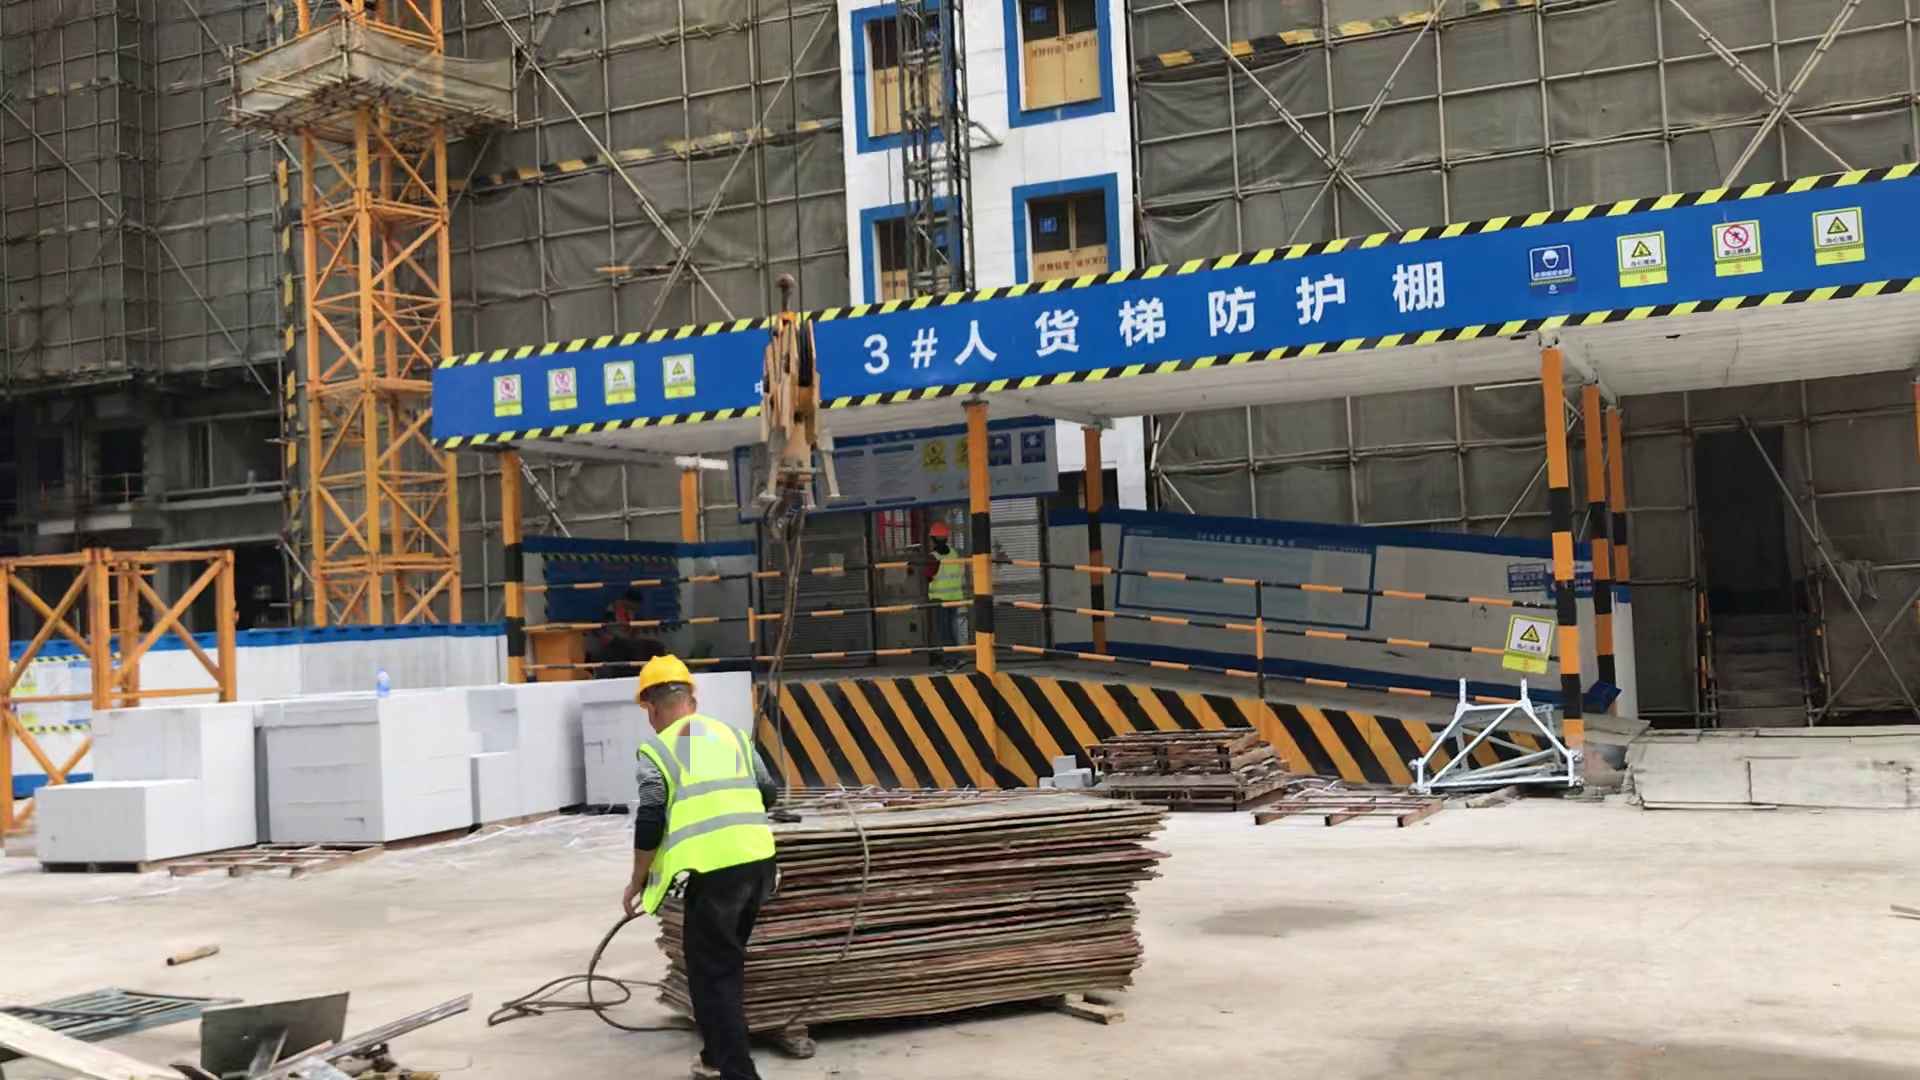board: (757, 796, 1175, 1020)
brick: (265, 689, 582, 834), (41, 695, 262, 875)
ebox: (527, 627, 585, 682)
handcart: (1, 978, 255, 1062)
helmet: (630, 650, 699, 702), (927, 519, 953, 543)
hook: (751, 268, 839, 555)
person: (617, 645, 788, 1080), (922, 509, 967, 670), (601, 584, 659, 660)
slogan: (860, 262, 1450, 378), (1526, 201, 1867, 306), (489, 349, 701, 415), (1502, 609, 1555, 683)
vest: (632, 721, 776, 896), (924, 550, 964, 605), (611, 599, 636, 635)
